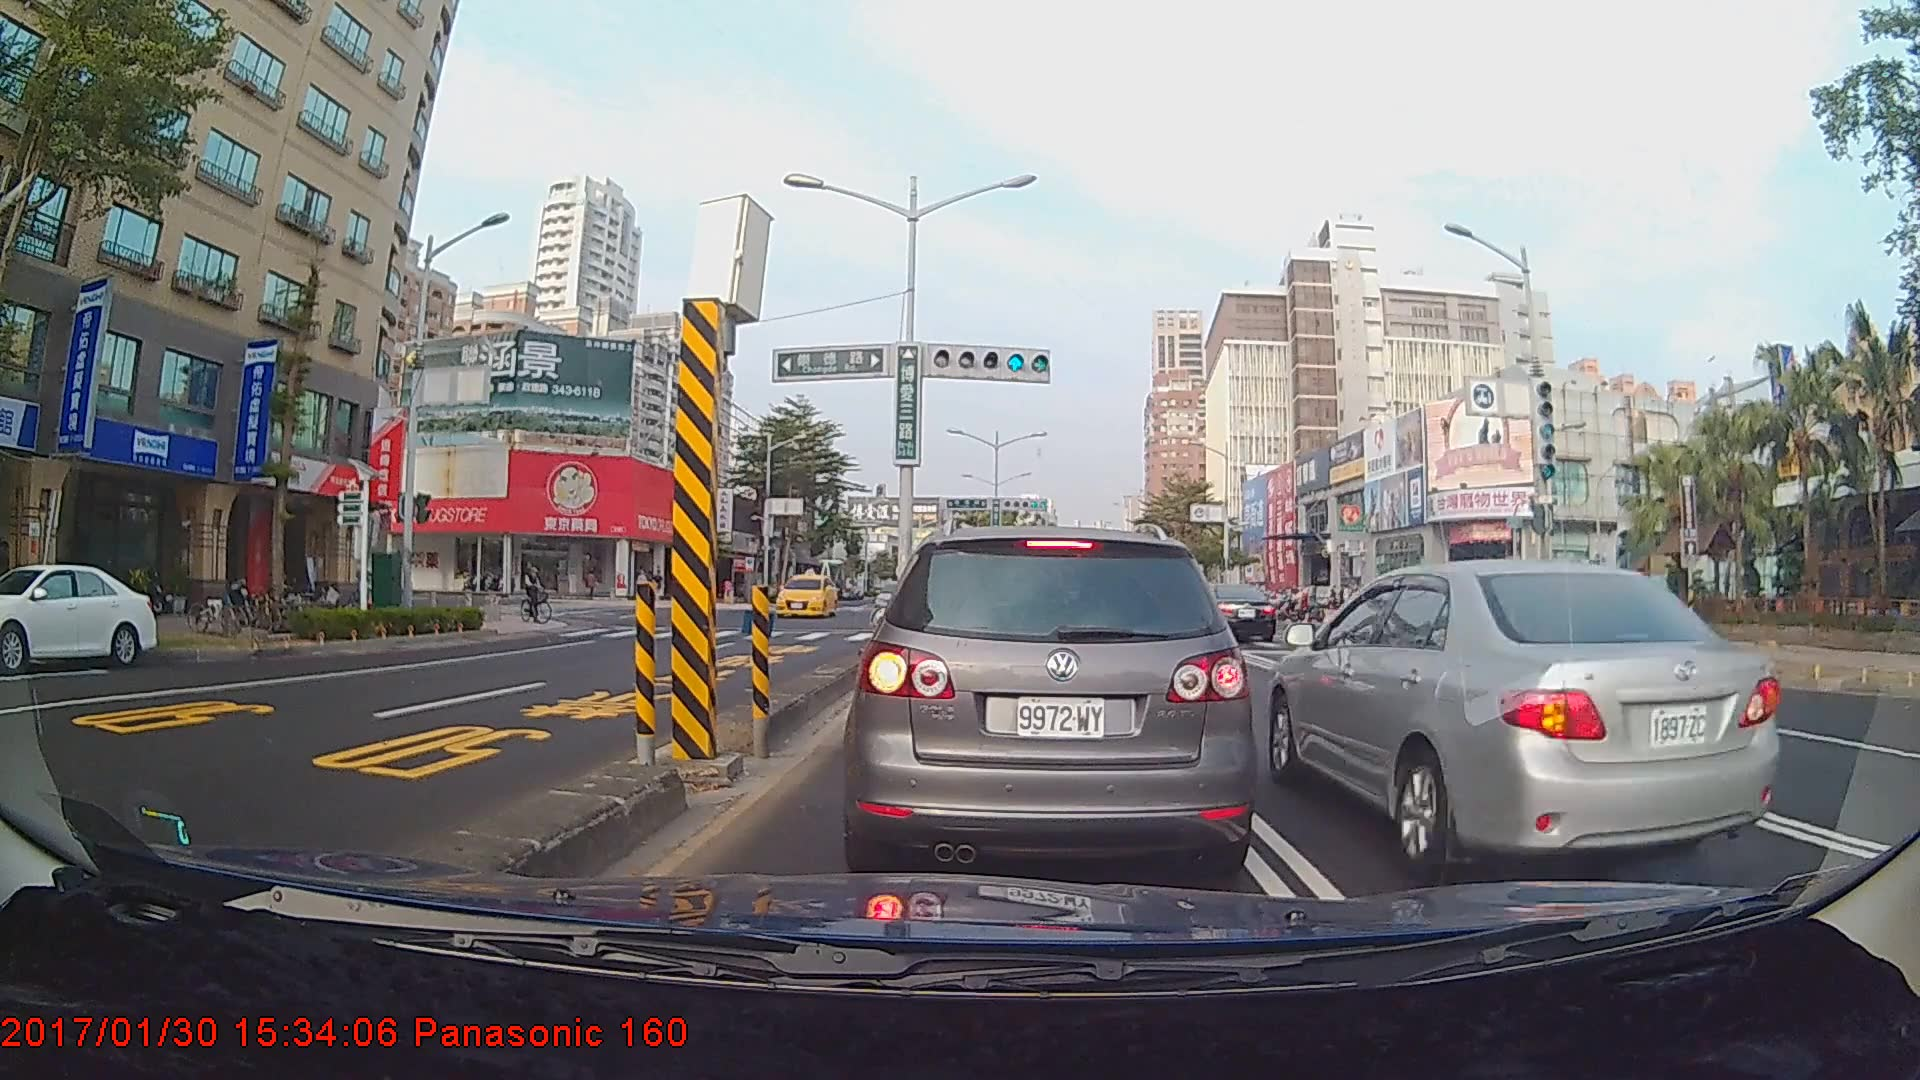rider: (518, 559, 561, 629)
vehicle: (1263, 556, 1783, 875), (853, 523, 1249, 879), (0, 561, 162, 671), (1189, 580, 1277, 643), (772, 575, 837, 620)
